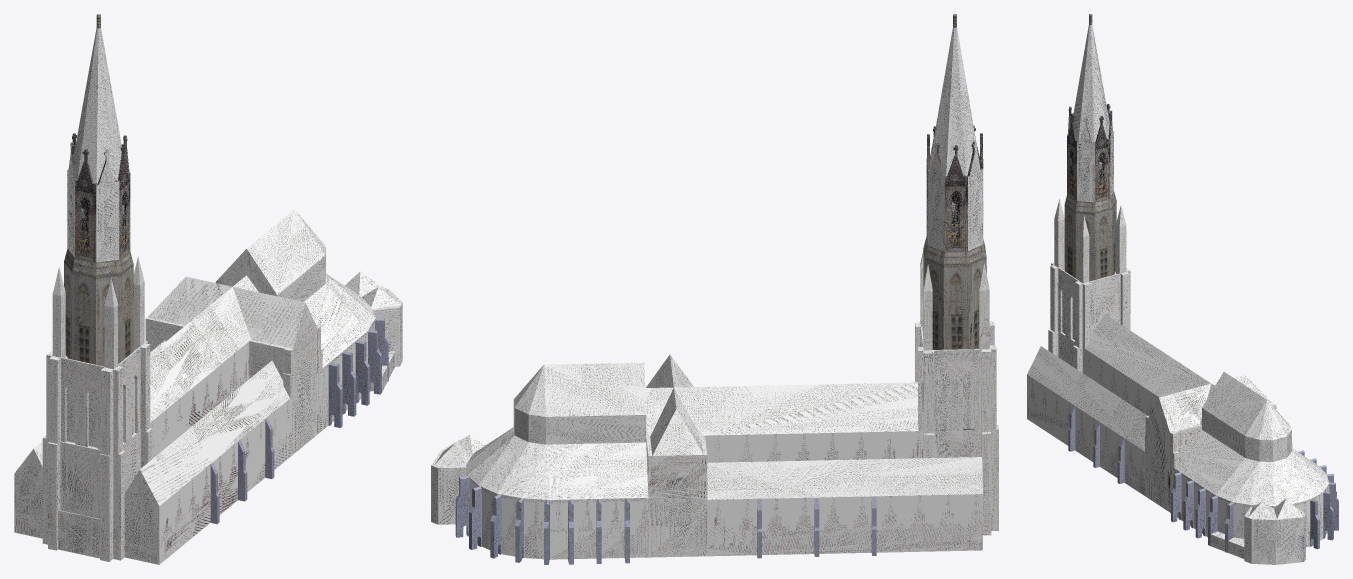
The model's file is NieuweKerk.fbx.
The picture shows the model from 3 angles, left to right: view 1: azimuth 30°, elevation 25°; view 2: azimuth 150°, elevation 25°; view 3: azimuth 270°, elevation 25°; orthographic projection. The views are drawn at different scales.
Visible parts, largest first — view 1: Model, toren_top_zonder_klok2, bovenstukje_toren_met_klok_klein2, bovenstukje_toren_met_klok_klein1, stukje_toren1, stukje_toren4, stukje_toren3, steunbeer13, steunbeer11, steunbeer12, toren_top_zonder_klok3, steunbeer10 (+3 smaller); view 2: Model, bovenstukje_toren_met_klok_klein3, toren_top_zonder_klok4, toren_top_zonder_klok3, stukje_toren1, steunbeer8, stukje_toren2, steunbeer6, steunbeer3; view 3: Model, toren_top_zonder_klok1, bovenstukje_toren_met_klok_klein4, bovenstukje_toren_met_klok_klein1, stukje_toren4, stukje_toren2, stukje_toren3, steunbeer13, steunbeer6, steunbeer12, steunbeer11, steunbeer8.
Boxes of the visible parts, box(x1,y1,x2,y2) form: Model: box(14, 14, 402, 564); toren_top_zonder_klok2: box(96, 150, 119, 262); bovenstukje_toren_met_klok_klein2: box(75, 149, 97, 262); bovenstukje_toren_met_klok_klein1: box(118, 144, 130, 259); stukje_toren1: box(52, 267, 65, 357); stukje_toren4: box(104, 279, 117, 369); stukje_toren3: box(133, 256, 144, 350); steunbeer13: box(328, 362, 342, 427); steunbeer11: box(355, 340, 369, 405); steunbeer12: box(342, 351, 356, 416); toren_top_zonder_klok3: box(67, 142, 77, 257); steunbeer10: box(368, 329, 381, 394); Model: box(431, 14, 998, 559); bovenstukje_toren_met_klok_klein3: box(945, 145, 967, 251); toren_top_zonder_klok4: box(927, 142, 946, 251); toren_top_zonder_klok3: box(968, 141, 983, 251); stukje_toren1: box(979, 263, 989, 349); steunbeer8: box(455, 475, 469, 537); stukje_toren2: box(923, 264, 932, 350); steunbeer6: box(469, 486, 481, 549); steunbeer3: box(490, 494, 501, 558); Model: box(1027, 14, 1329, 564); toren_top_zonder_klok1: box(1077, 117, 1095, 202); bovenstukje_toren_met_klok_klein4: box(1095, 116, 1110, 202); bovenstukje_toren_met_klok_klein1: box(1067, 113, 1078, 200); stukje_toren4: box(1054, 199, 1064, 269); stukje_toren2: box(1116, 205, 1126, 273); stukje_toren3: box(1079, 215, 1089, 283); steunbeer13: box(1171, 472, 1181, 522); steunbeer6: box(1323, 491, 1333, 540); steunbeer12: box(1183, 480, 1193, 530); steunbeer11: box(1195, 488, 1205, 538); steunbeer8: box(1310, 499, 1319, 549).
Size of the model in its own units: 102 by 109 by 77.31.
